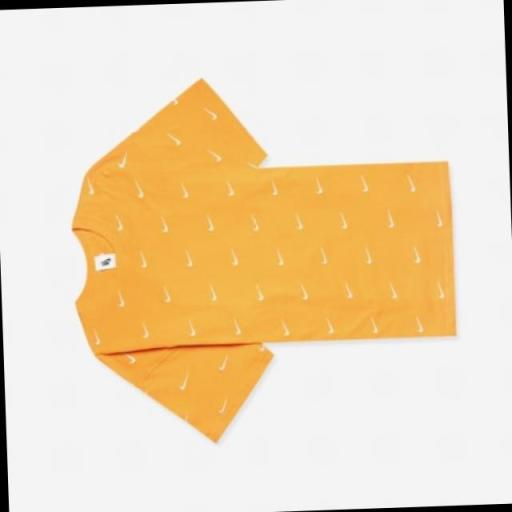Nike: (204, 209, 216, 234)
